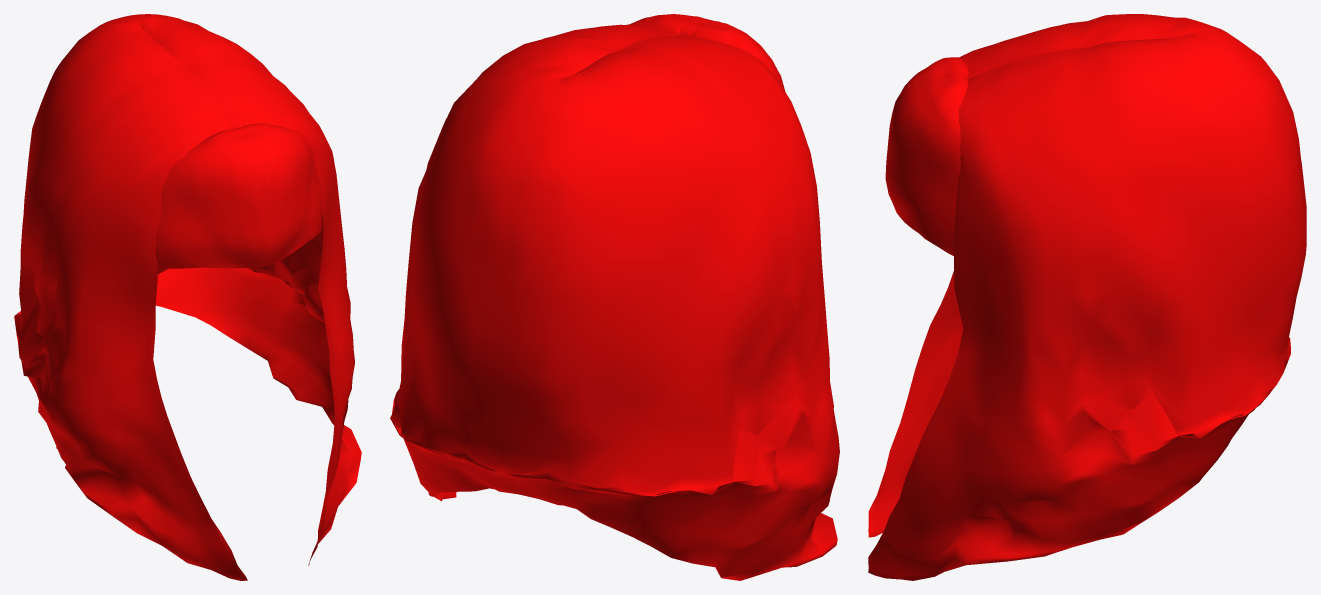
File: toigo_inverted_bob_with_bangs_M.glb
3 views of the same model, side by side, from view 1: azimuth 30°, elevation 25°; view 2: azimuth 150°, elevation 25°; view 3: azimuth 270°, elevation 25° (orthographic). The views are drawn at different scales.
Size of the model in its own units: 0.2153 by 0.3183 by 0.2411.
Materials: 1 (1 with a texture image).
